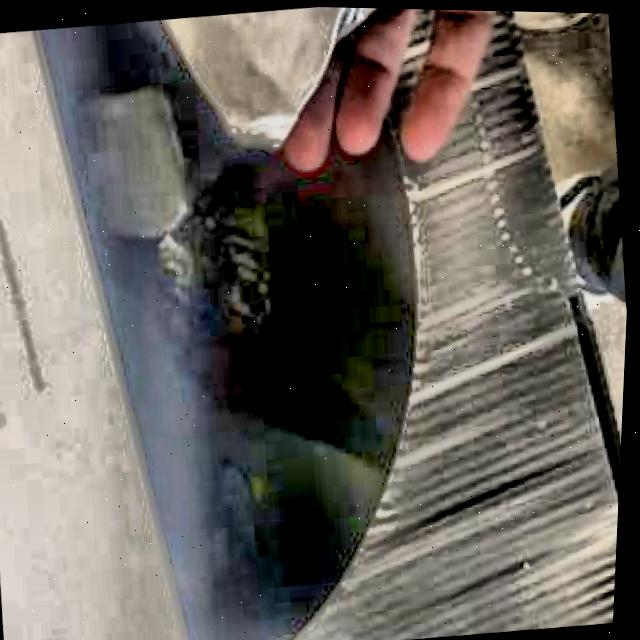paper: (164, 5, 373, 144)
